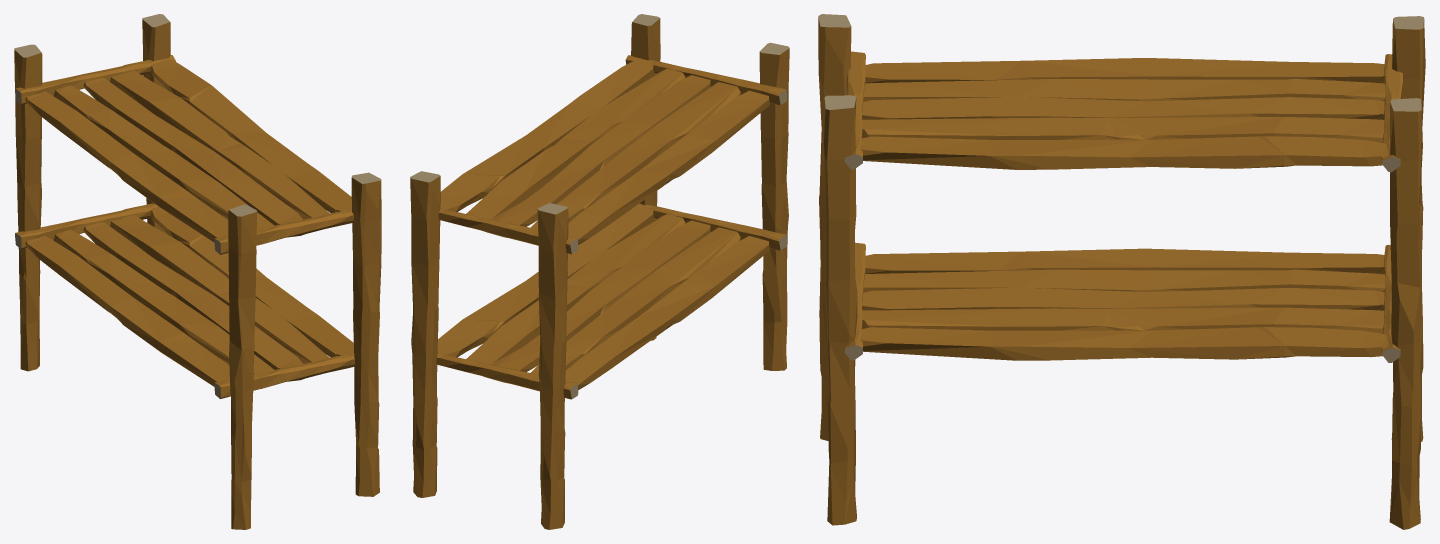
File: obj_shelf_98cc94.glb
The picture shows the model from 3 angles, left to right: view 1: azimuth 30°, elevation 25°; view 2: azimuth 150°, elevation 25°; view 3: azimuth 270°, elevation 25°; orthographic projection. The views are drawn at different scales.
Parts seen in each view (by area): view 1: obj_shelf_98cc94; view 2: obj_shelf_98cc94; view 3: obj_shelf_98cc94.
Boxes of the visible parts, x1,y1,x2,y2 form: obj_shelf_98cc94: (14,14,381,529); obj_shelf_98cc94: (410,14,789,529); obj_shelf_98cc94: (818,14,1425,529).
Bounding box in the file's own units: 0.4462 × 0.85 × 1.12.
